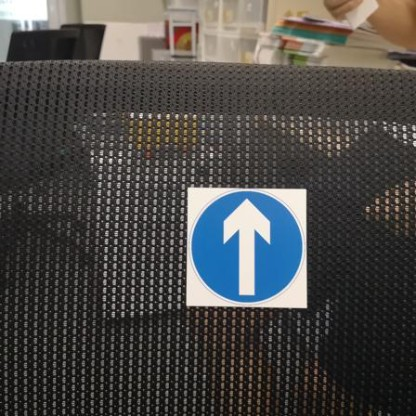forward: (185, 186, 309, 308)
